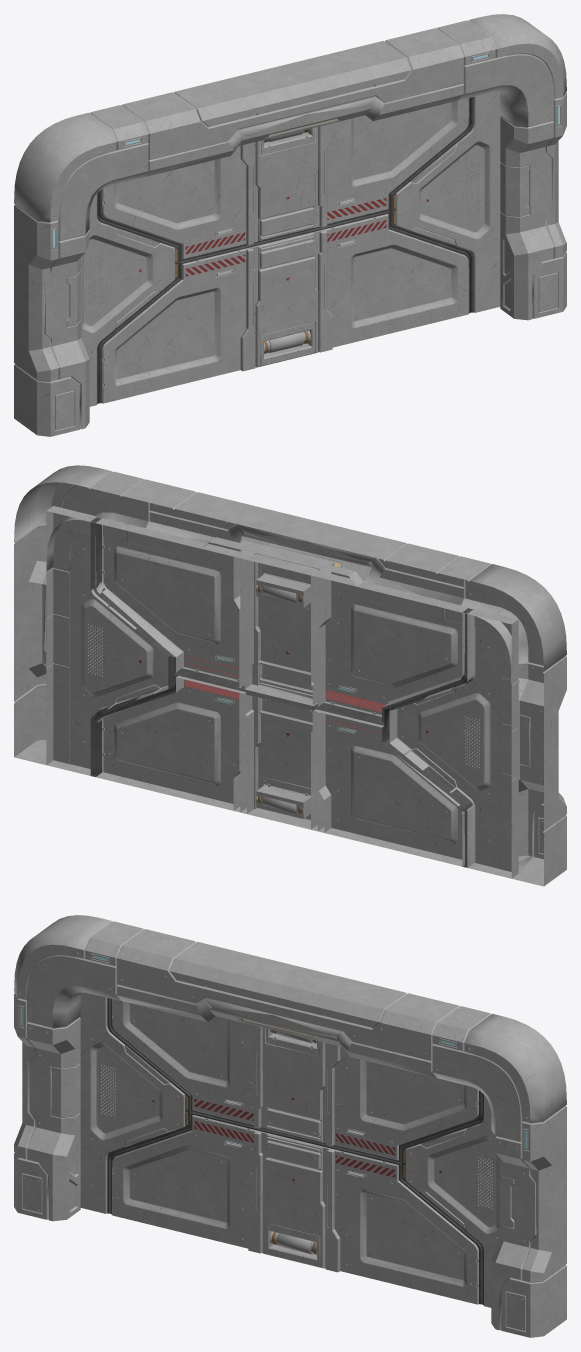
File: puerta-optimizada.glb
3 renders of one model, top to bottom at view 1: azimuth 30°, elevation 25°; view 2: azimuth 150°, elevation 25°; view 3: azimuth 330°, elevation 25°, orthographic.
Parts seen in each view (by area): view 1: PUERTA_G07_05, PUERTA_G07_02, PUERTA_G07_01, PUERTA_G07_04, PUERTA_G07_03; view 2: PUERTA_G07_05, PUERTA_G07_01, PUERTA_G07_02, PUERTA_G07_03, PUERTA_G07_04; view 3: PUERTA_G07_05, PUERTA_G07_02, PUERTA_G07_01, PUERTA_G07_03, PUERTA_G07_04.
Boxes of the visible parts, <box> form: PUERTA_G07_05: <box>14,14,566,436</box>; PUERTA_G07_02: <box>98,210,470,403</box>; PUERTA_G07_01: <box>98,97,470,261</box>; PUERTA_G07_04: <box>390,91,500,312</box>; PUERTA_G07_03: <box>81,192,179,406</box>; PUERTA_G07_05: <box>14,465,566,886</box>; PUERTA_G07_01: <box>93,518,469,725</box>; PUERTA_G07_02: <box>93,674,467,867</box>; PUERTA_G07_03: <box>384,608,518,878</box>; PUERTA_G07_04: <box>46,506,177,776</box>; PUERTA_G07_05: <box>14,915,566,1337</box>; PUERTA_G07_02: <box>110,1111,482,1304</box>; PUERTA_G07_01: <box>110,998,482,1162</box>; PUERTA_G07_03: <box>80,992,190,1213</box>; PUERTA_G07_04: <box>401,1093,499,1307</box>.
Bounding box in the file's own units: 9.85 × 5.11 × 0.899.
Materials: 8 (5 with a texture image).
